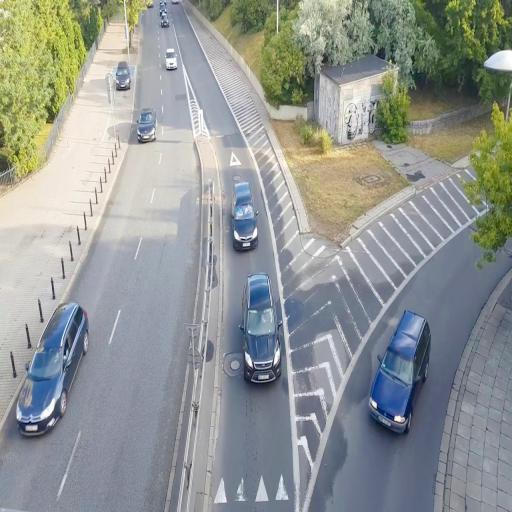vehicle: (16, 300, 90, 436), (368, 308, 432, 436), (240, 272, 282, 384), (233, 182, 258, 252), (138, 109, 156, 142), (114, 62, 132, 89), (164, 48, 178, 70)
